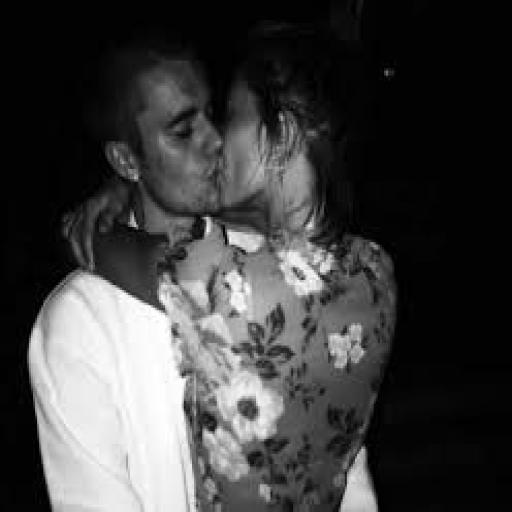hugging: (24, 25, 402, 510)
